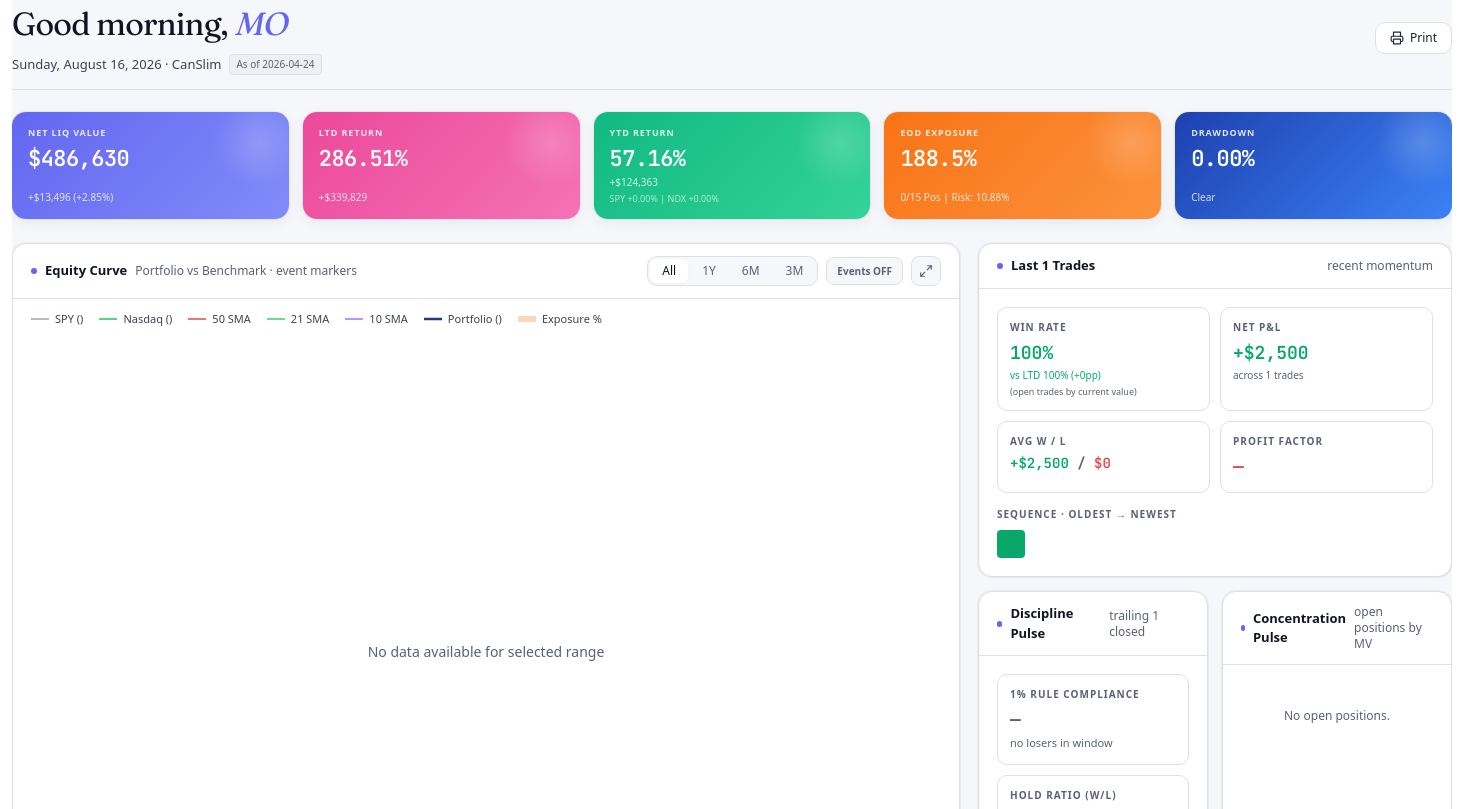
it: Dashboard — Last 10 Trades + Discipline Pulse panels › hovering a sequence square shows rich tooltip with ticker, P&L, status, days, rule
This screenshot has width=1464, height=809.
Hover over the link named "RICH CLOSED, P&L +$2,500".
mouse_move(1011, 544)  # box [997, 530, 1025, 558]
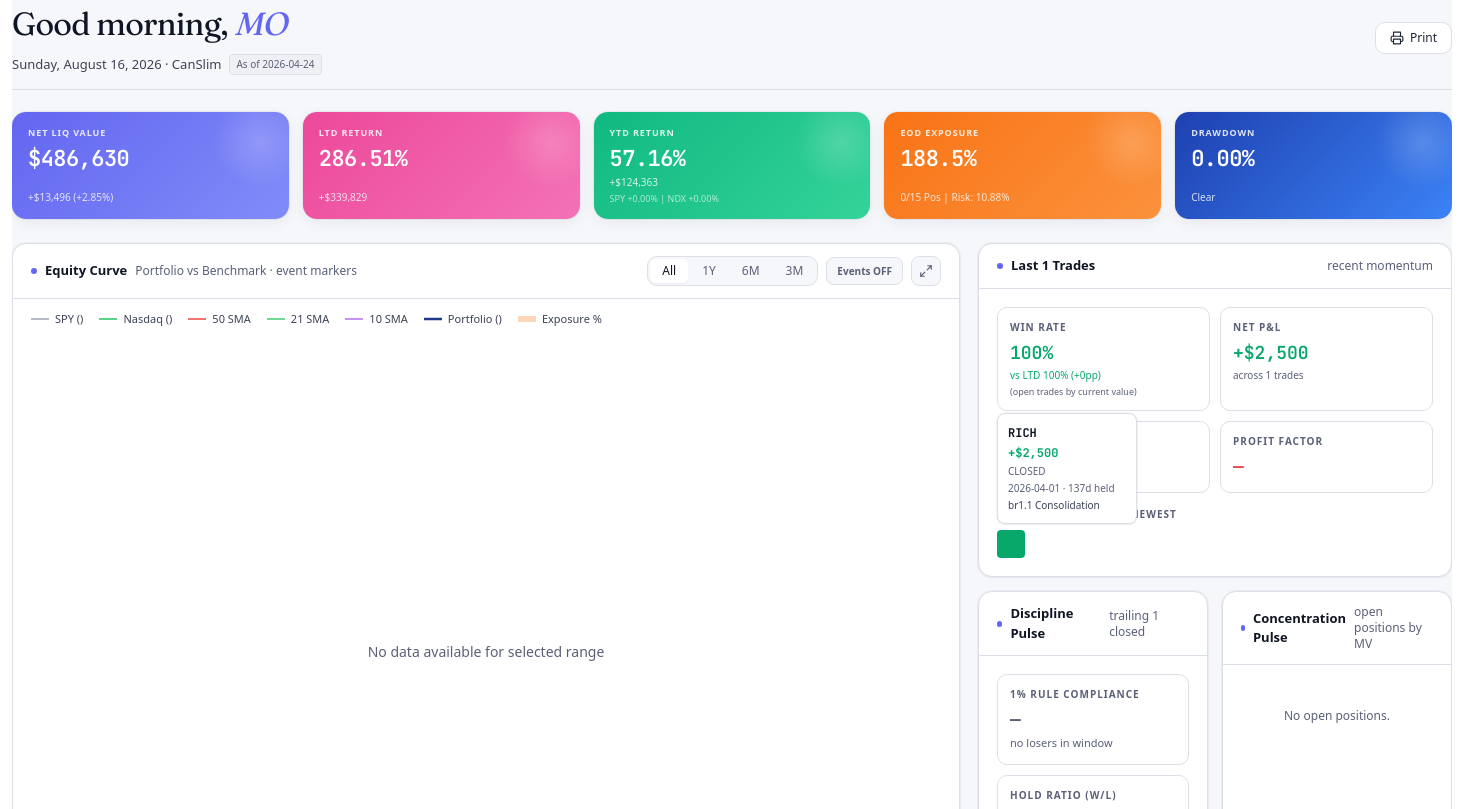
Result: the element with test id "last10-tooltip-0" shows "RICH" at [1008, 425, 1037, 441]
Result: the element with test id "last10-tooltip-0" shows "+$2,500" at [1008, 445, 1058, 461]
Result: the element with test id "last10-tooltip-0" shows "CLOSED" at [1008, 464, 1046, 478]
